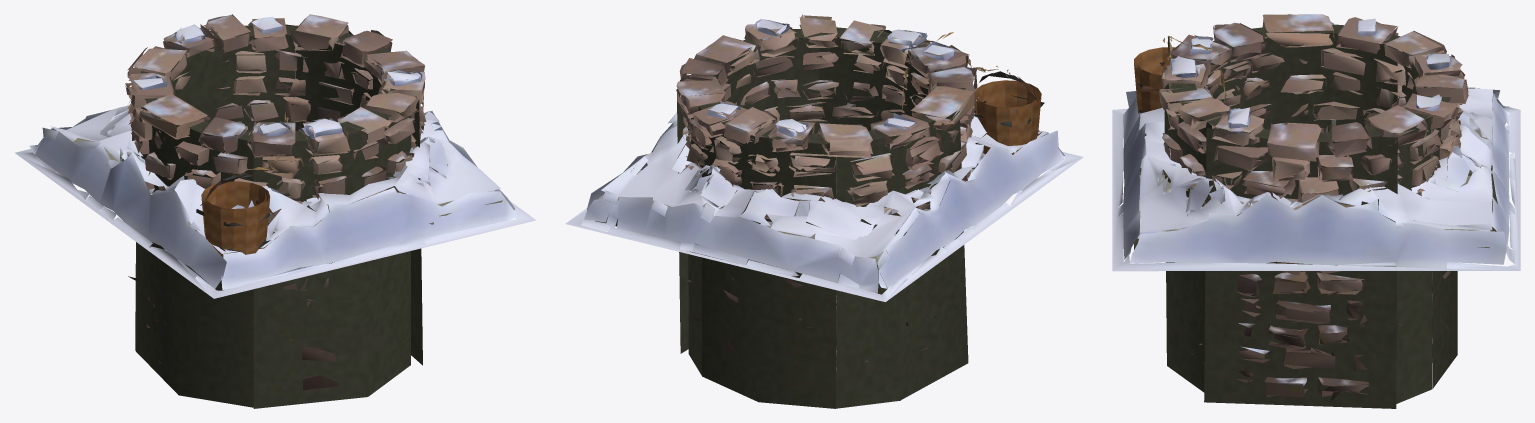
The model's file is well_snow_hd.glb.
The picture shows the model from 3 angles, left to right: view 1: azimuth 30°, elevation 25°; view 2: azimuth 150°, elevation 25°; view 3: azimuth 270°, elevation 25°; orthographic projection. The views are drawn at different scales.
Visible parts, largest first — view 1: well_snow; view 2: well_snow; view 3: well_snow.
Part boxes in pixels (<box>): well_snow: <box>15,14,535,408</box>; well_snow: <box>565,14,1083,408</box>; well_snow: <box>1112,14,1520,408</box>.
Bounding box in the file's own units: 2.09 × 1.75 × 2.24.
1 material, 1 textured.
